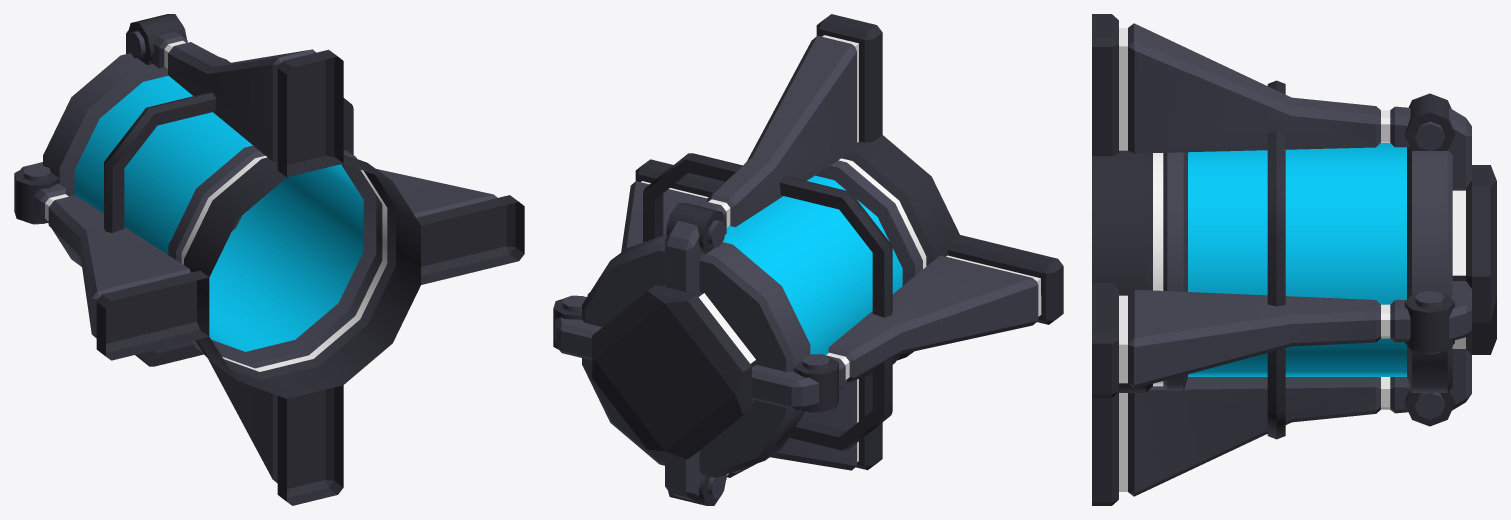
File: Energy Generator 01.fbx
3 renders of one model, left to right at view 1: azimuth 30°, elevation 25°; view 2: azimuth 150°, elevation 25°; view 3: azimuth 270°, elevation 25°, orthographic. The views are drawn at different scales.
Visible parts, largest first — view 1: Energy_Generator_01; view 2: Energy_Generator_01; view 3: Energy_Generator_01.
Part boxes in pixels (<box>): Energy_Generator_01: <box>14,14,524,505</box>; Energy_Generator_01: <box>553,14,1063,505</box>; Energy_Generator_01: <box>1092,14,1496,505</box>.
Size of the model in its own units: 382 by 382 by 300.
